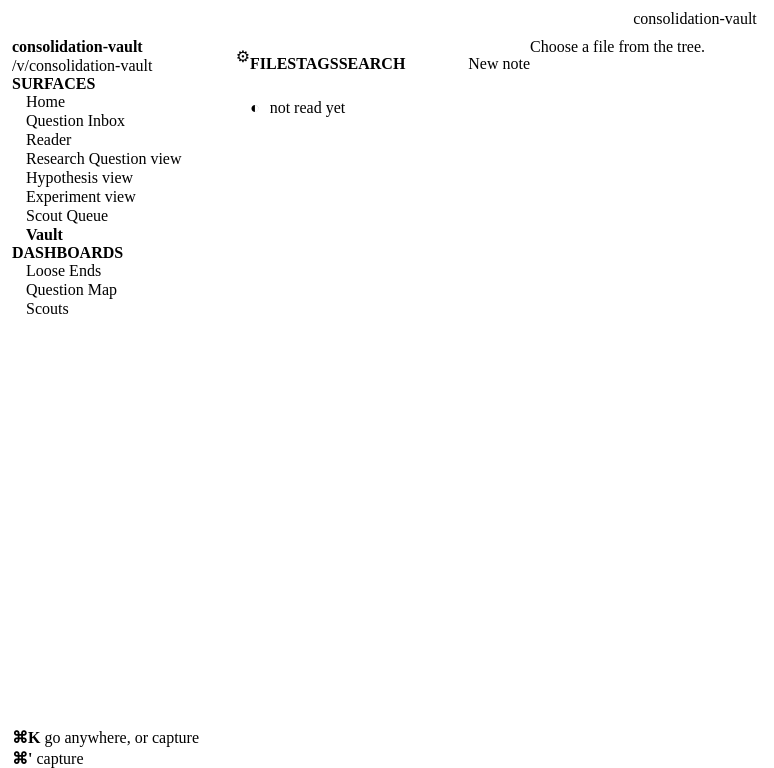
the tags tab › lists a node's files with their Kind and the tag as written, parent including its children
Click the tab "tags": (318, 64) x1=296 y1=55 x2=339 y2=73
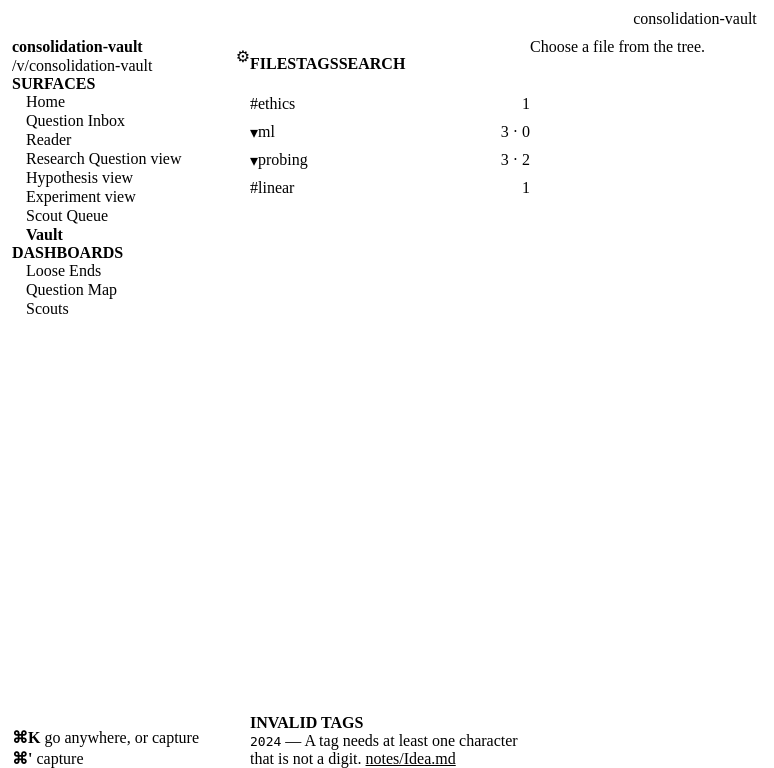
Click the list item with aria-label "ml, 3 in all, 0 at this level": (254, 132) x1=250 y1=118 x2=530 y2=146
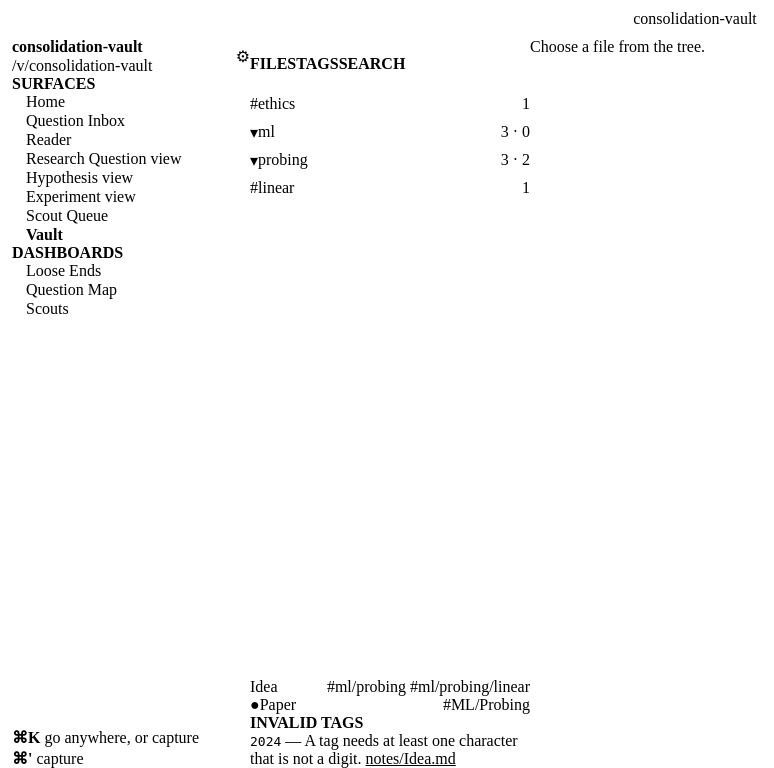
expect the link "● Paper #ML/Probing" is shown: met, box x1=250 y1=696 x2=530 y2=714
